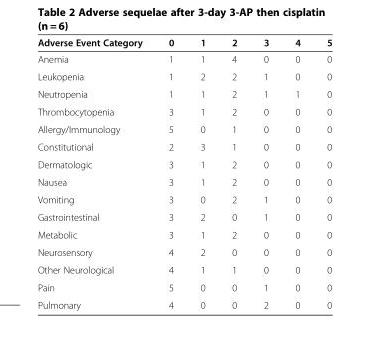table: (36, 36, 331, 310)
table column: (36, 36, 154, 310), (154, 36, 186, 310), (186, 36, 218, 310), (249, 36, 281, 310), (281, 36, 313, 310), (218, 36, 249, 310), (313, 36, 331, 310)
table column header: (36, 36, 331, 50)
table row: (36, 84, 331, 102), (36, 102, 331, 120), (36, 137, 331, 155), (36, 172, 331, 190), (36, 207, 331, 225), (36, 225, 331, 243), (36, 260, 331, 278), (36, 50, 331, 67), (36, 67, 331, 84), (36, 120, 331, 137), (36, 155, 331, 172), (36, 190, 331, 207), (36, 243, 331, 260), (36, 278, 331, 295), (36, 295, 331, 310), (36, 36, 331, 50)
